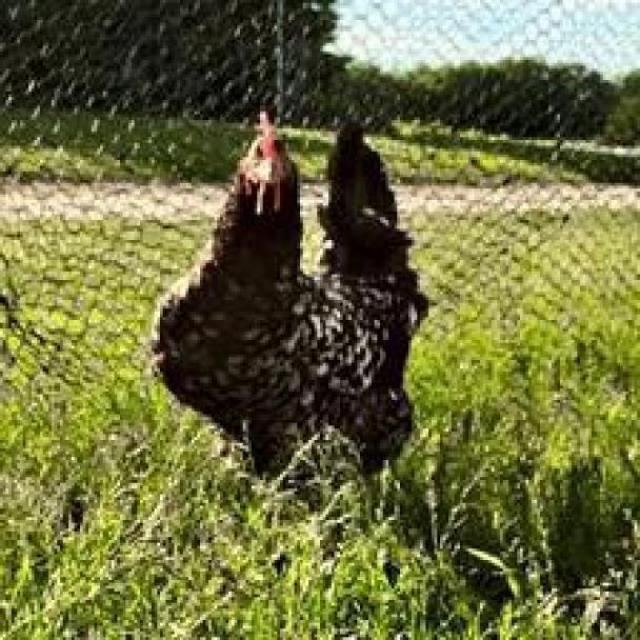Chicken: (132, 82, 449, 504)
